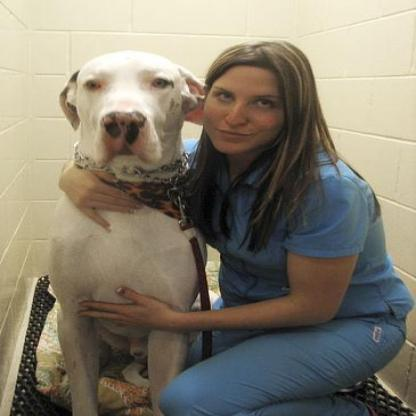Great_Dane: (42, 50, 205, 412)
